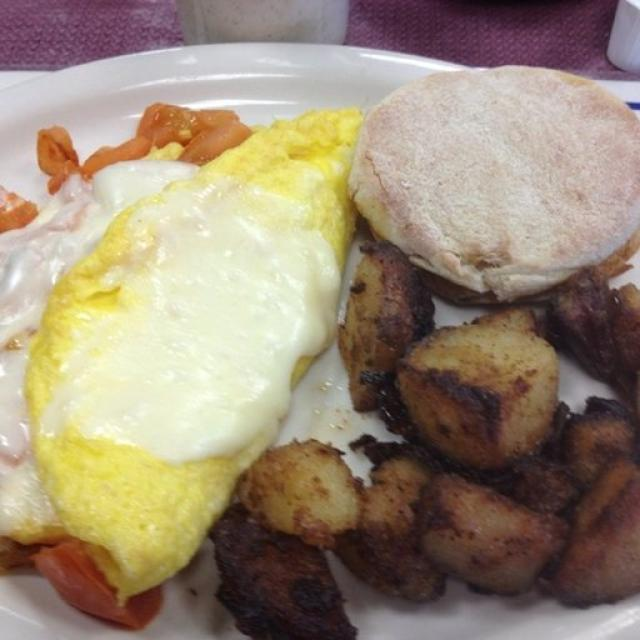telur_ayam_dadar: (2, 104, 366, 606)
